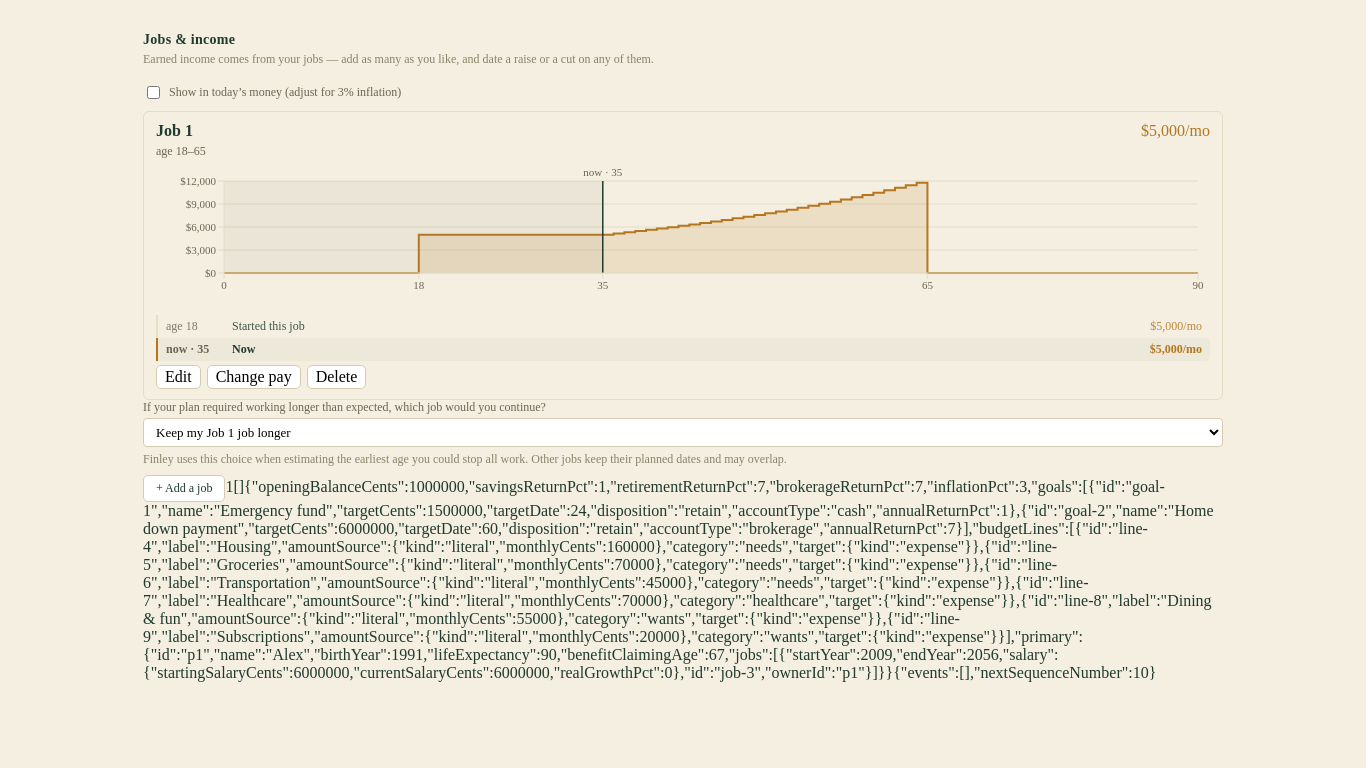
Test: JobsPanel — add / edit / delete › names a job — the row is titled by the name, and it round-trips back into the edit form
Step 1. Click the button with aria-label "Edit Job 1" → point(178, 377), box 156,365 -> 201,389
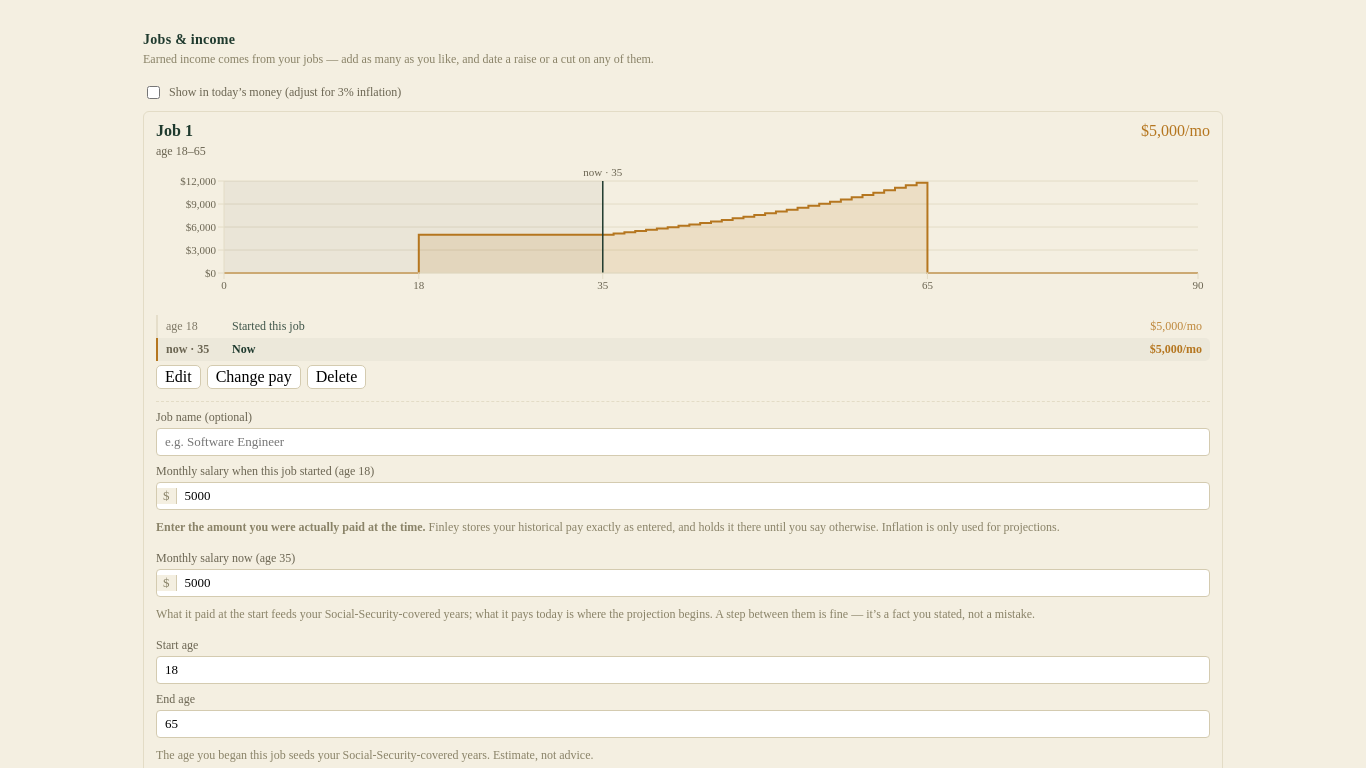
Step 2. Type "Software Engineer" into the field labelled "Job name (optional)" → point(683, 442), box 157,429 -> 1209,455
(page scrolled)
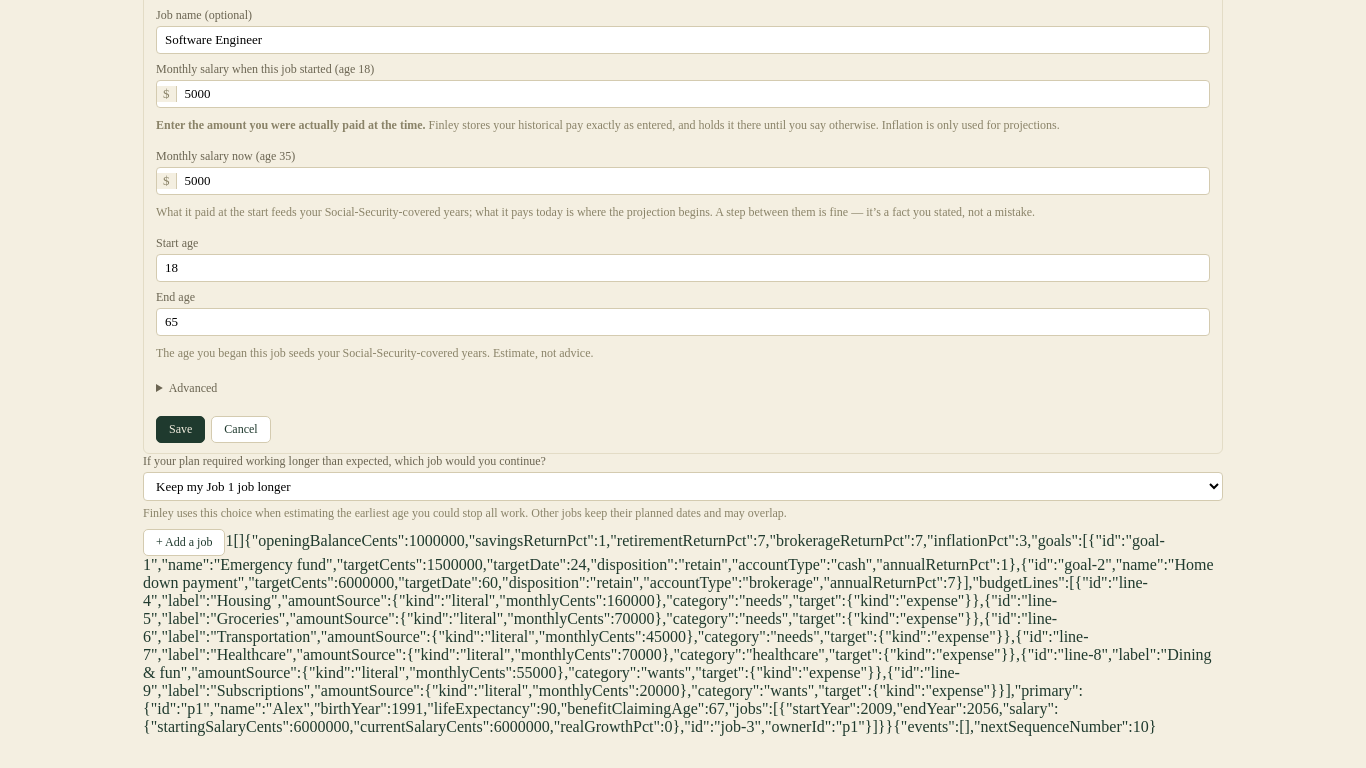
Step 3. Click the button "Save" → point(181, 430), box 156,416 -> 205,443
(page scrolled)
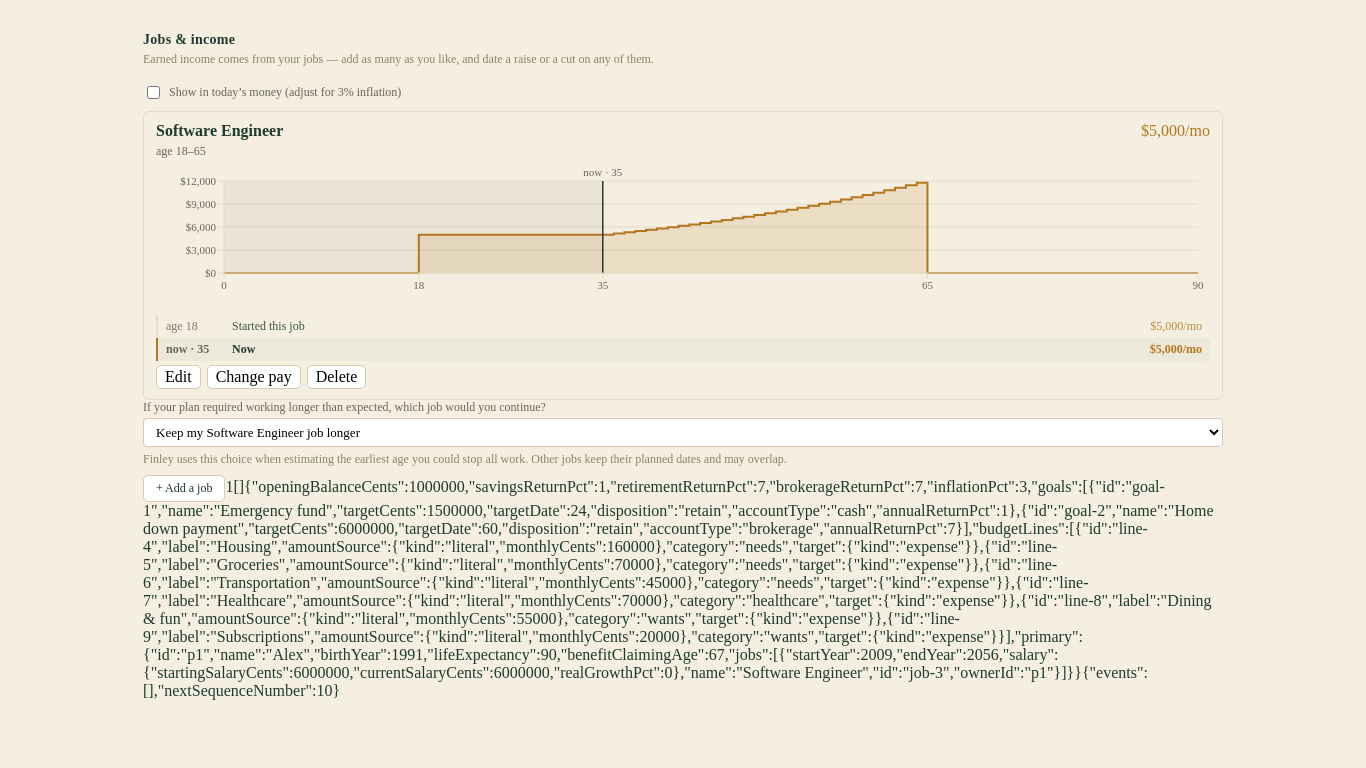
Expected: the 1st text titled "Current pay" reads "$5,000/mo", 1141,122 -> 1210,140
Step 4. Click the button with aria-label "Edit Software Engineer" → point(178, 377), box 156,365 -> 201,389
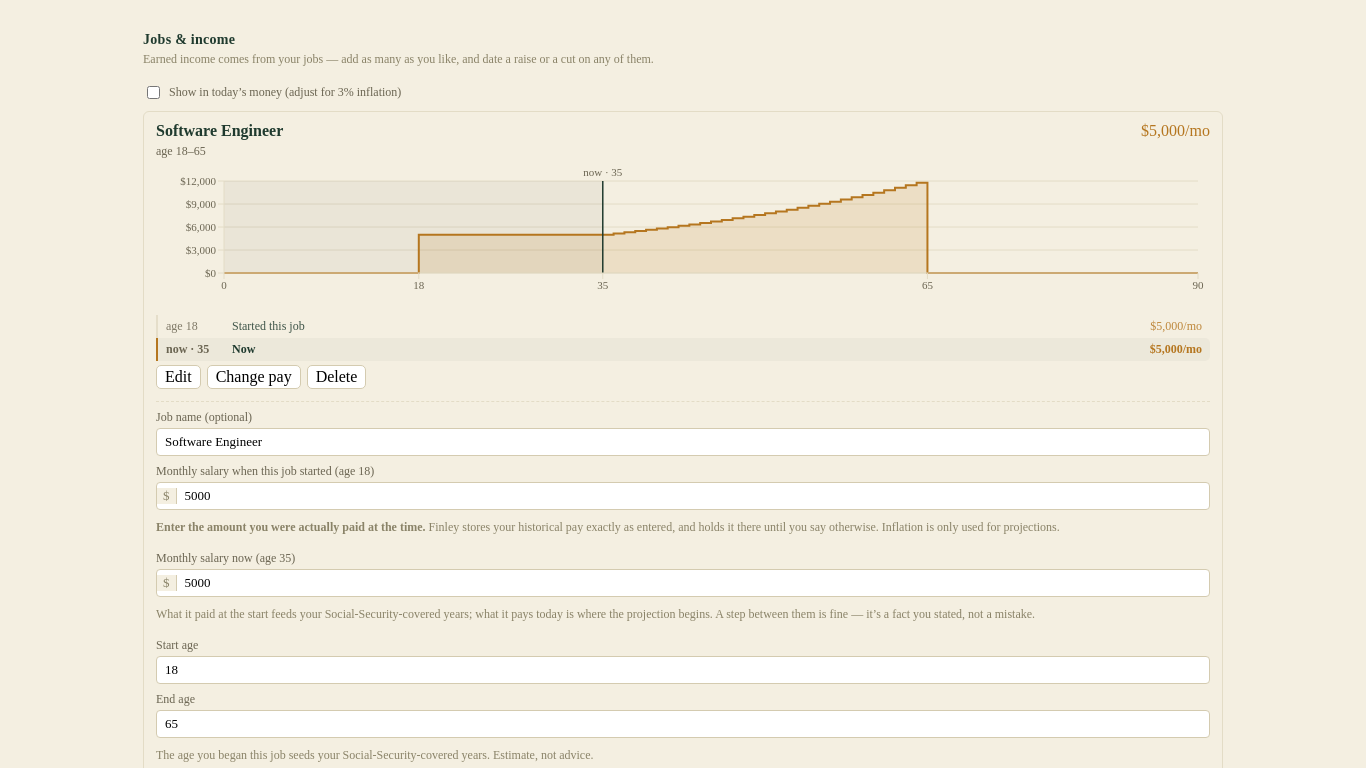
Expected: the field labelled "Job name (optional)" holds "Software Engineer", 157,429 -> 1209,455
